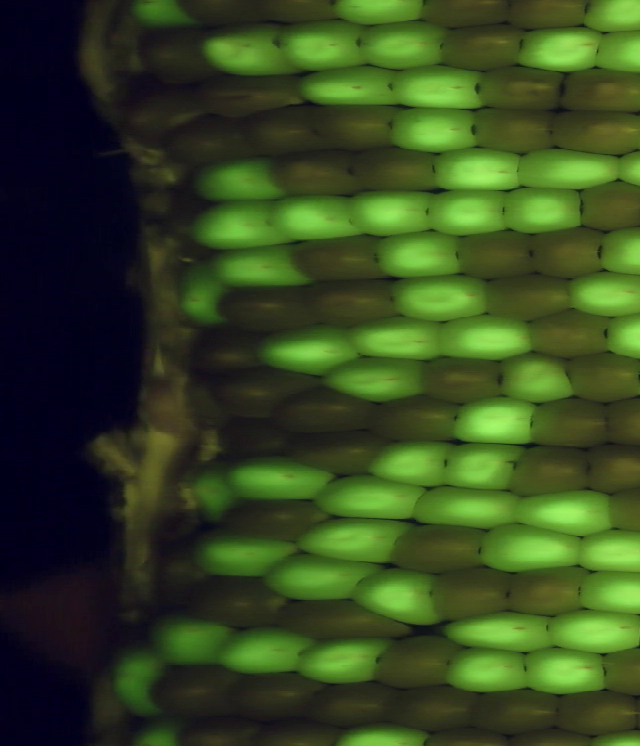fluorescent: (259, 551, 394, 608), (290, 514, 425, 569), (192, 17, 305, 82), (344, 562, 448, 632), (186, 524, 310, 581), (218, 451, 342, 505), (475, 519, 589, 576), (250, 319, 365, 375), (308, 472, 429, 525), (286, 634, 402, 689), (408, 479, 530, 531), (384, 271, 496, 326), (187, 196, 295, 253), (207, 624, 321, 678), (318, 353, 431, 406), (434, 309, 540, 365), (146, 609, 243, 670), (440, 608, 563, 656), (269, 19, 373, 75), (507, 485, 616, 538), (508, 20, 611, 76), (386, 59, 487, 115), (104, 640, 171, 724), (512, 146, 624, 196), (203, 243, 317, 292), (188, 154, 290, 208), (418, 183, 516, 239), (293, 59, 402, 109), (385, 105, 484, 159), (355, 17, 452, 72), (265, 192, 369, 243), (363, 437, 456, 494), (343, 313, 448, 363), (364, 229, 466, 280), (545, 605, 640, 659), (518, 643, 611, 697), (448, 394, 540, 448), (441, 645, 538, 696), (341, 187, 436, 239), (439, 439, 528, 494), (495, 349, 579, 406), (429, 147, 524, 195), (170, 263, 235, 331), (499, 186, 586, 235), (565, 267, 640, 319), (182, 457, 238, 520), (573, 568, 640, 618), (575, 527, 640, 577), (325, 1, 427, 29), (595, 222, 640, 281), (586, 28, 640, 77), (127, 1, 204, 32), (599, 311, 640, 364), (579, 1, 640, 36)
nonfluorescent: (271, 594, 418, 647), (206, 363, 324, 425), (183, 570, 288, 633), (144, 660, 247, 724), (222, 669, 329, 728), (208, 282, 323, 336), (214, 494, 333, 545), (118, 87, 213, 150), (387, 521, 493, 577), (132, 24, 221, 90), (298, 276, 406, 329), (422, 562, 514, 624), (297, 675, 402, 729), (367, 630, 463, 689), (390, 677, 491, 733), (276, 429, 387, 479), (522, 306, 615, 365), (162, 113, 256, 171), (266, 385, 376, 434), (305, 99, 403, 153), (465, 686, 566, 738), (478, 271, 575, 325), (240, 101, 332, 157), (418, 351, 511, 406), (502, 562, 587, 622), (284, 235, 388, 284), (200, 71, 305, 119), (525, 393, 615, 449), (545, 106, 640, 159), (438, 19, 526, 76), (473, 63, 566, 116), (504, 443, 591, 499), (372, 392, 462, 445), (563, 348, 640, 409), (467, 104, 559, 155), (455, 226, 537, 283), (552, 689, 640, 741), (529, 225, 606, 284), (155, 191, 217, 259), (183, 324, 265, 375), (149, 546, 211, 611), (559, 65, 640, 114), (212, 412, 292, 460), (575, 178, 640, 233), (585, 439, 640, 499), (148, 509, 214, 559), (173, 1, 277, 32), (412, 1, 519, 31), (502, 1, 594, 33), (255, 1, 338, 31), (597, 645, 640, 698), (603, 395, 640, 449), (603, 482, 640, 533)
